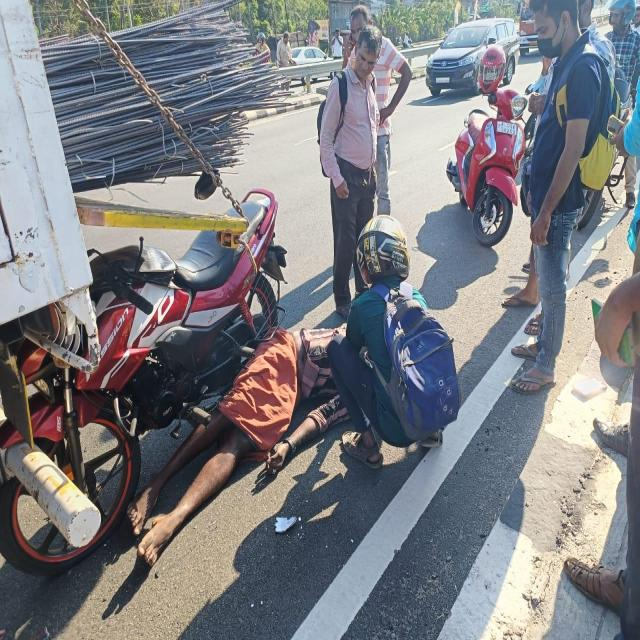accident: (0, 190, 284, 572)
car: (425, 18, 519, 95)
motorcycle: (446, 45, 528, 246)
